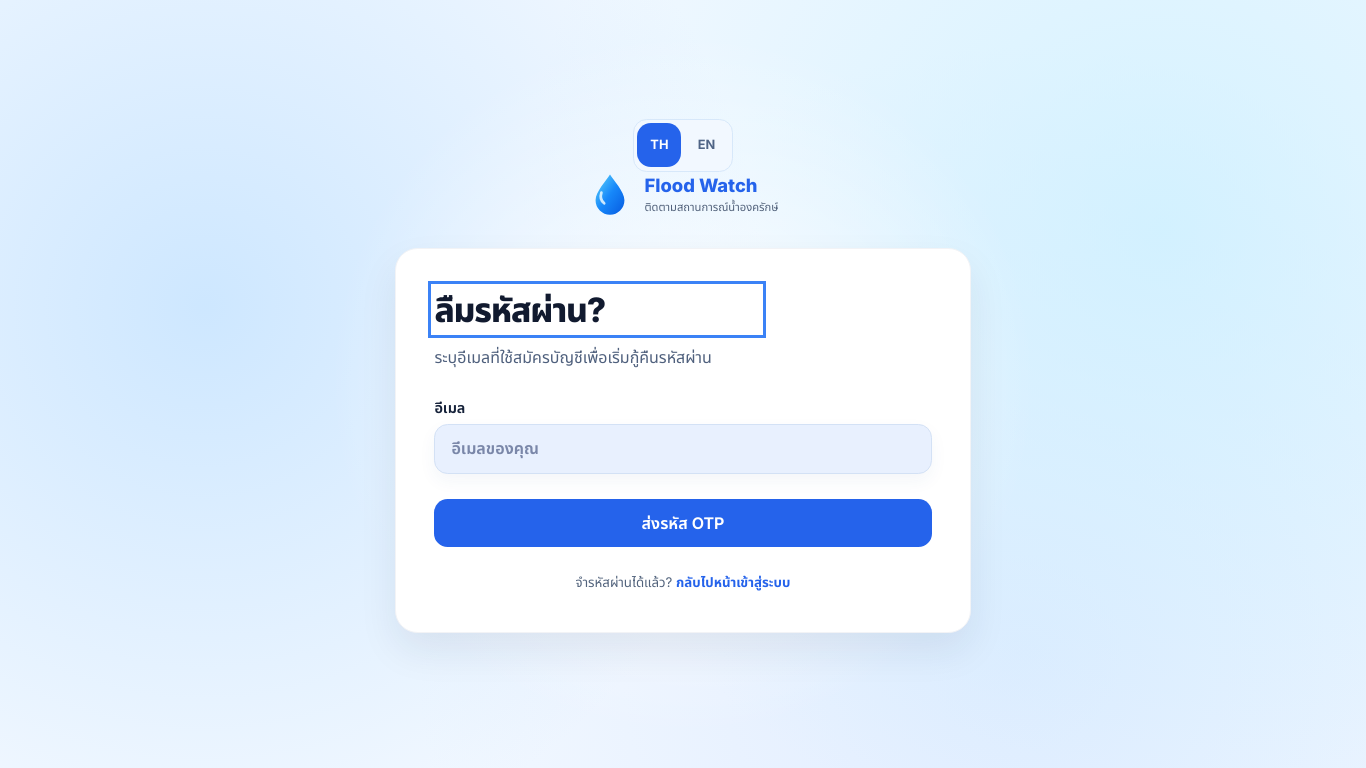
it: ForgotPasswordPage › replaces the challenge when a resend is allowed
Type "user@example.com" into the field labelled "อีเมล" at (683,449), box [434, 424, 932, 474]
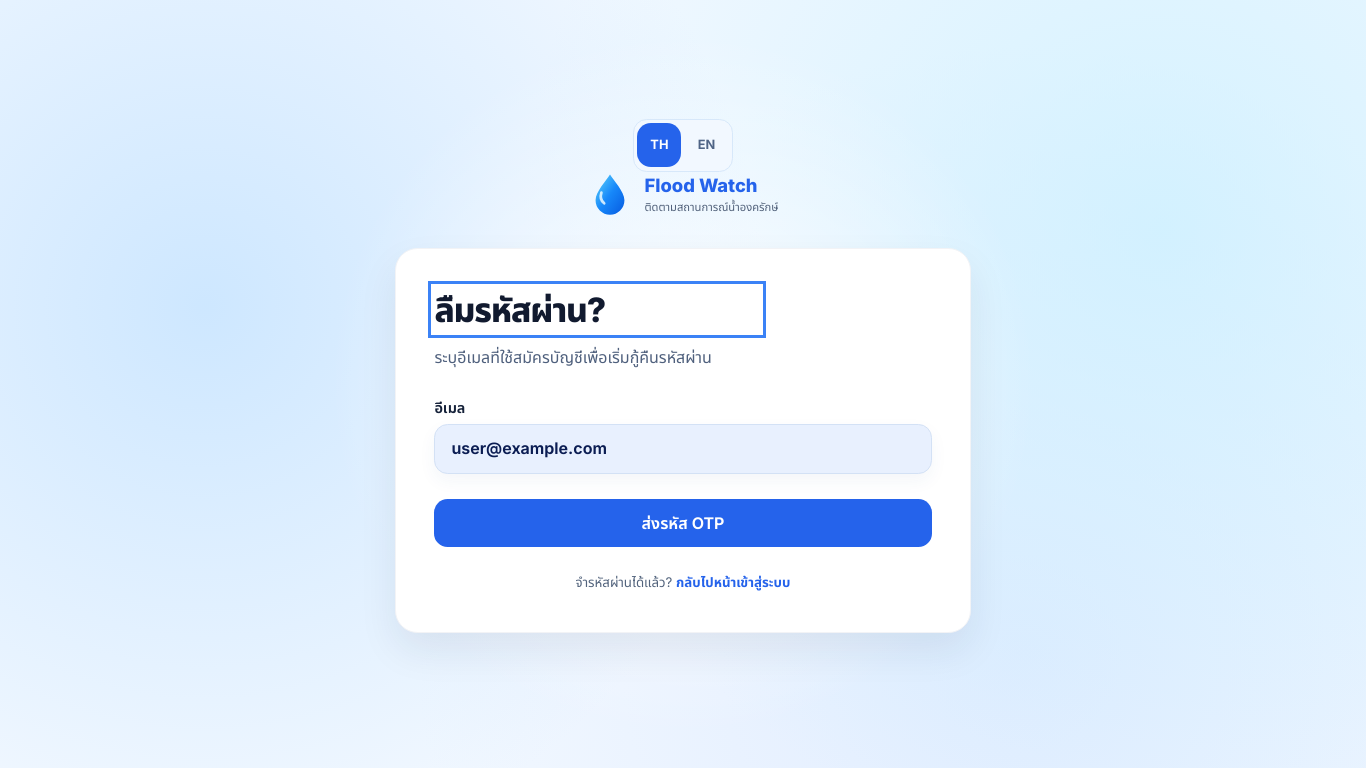
Click the button "ส่งรหัส OTP" at (683,523), box [434, 499, 932, 547]
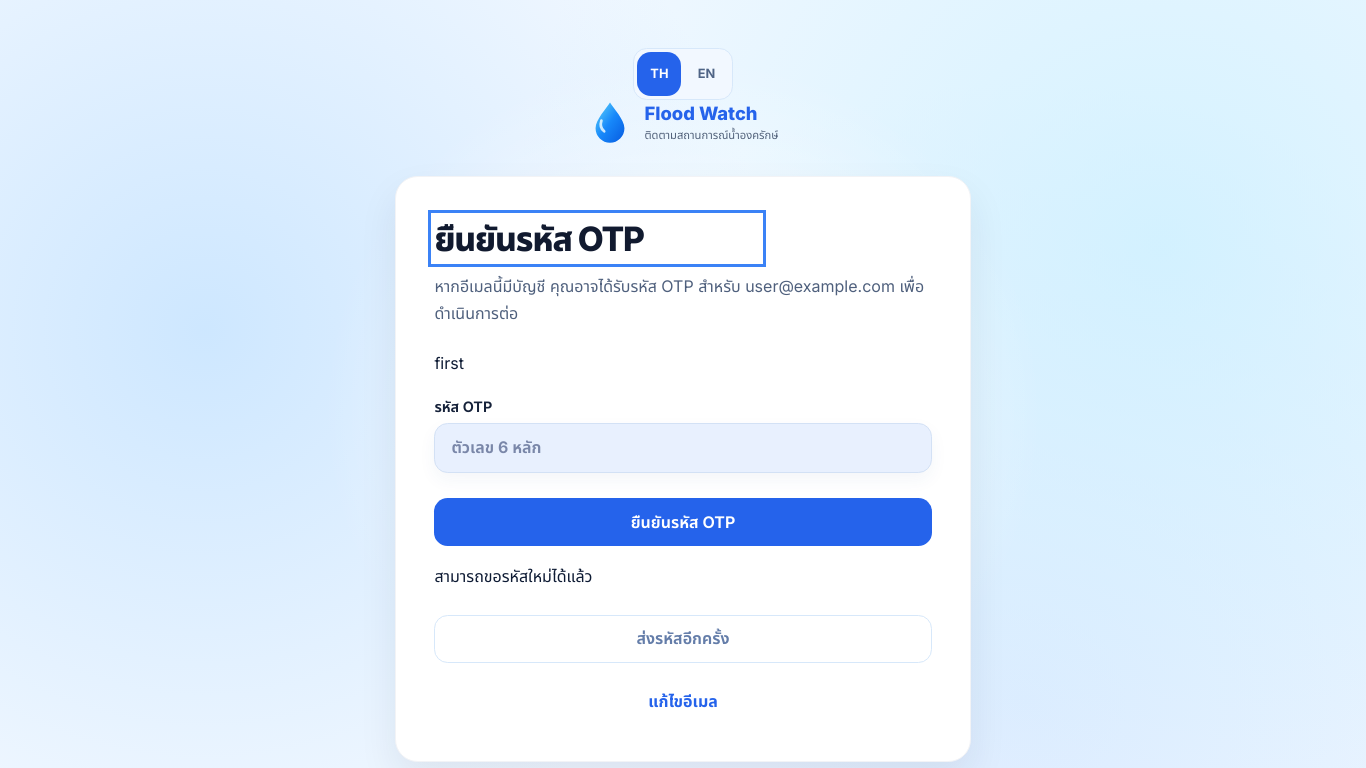
Now the heading "ยืนยันรหัส OTP" is shown, box [434, 218, 644, 259]
Click the button "ส่งรหัสอีกครั้ง" at (683,639), box [434, 615, 932, 663]
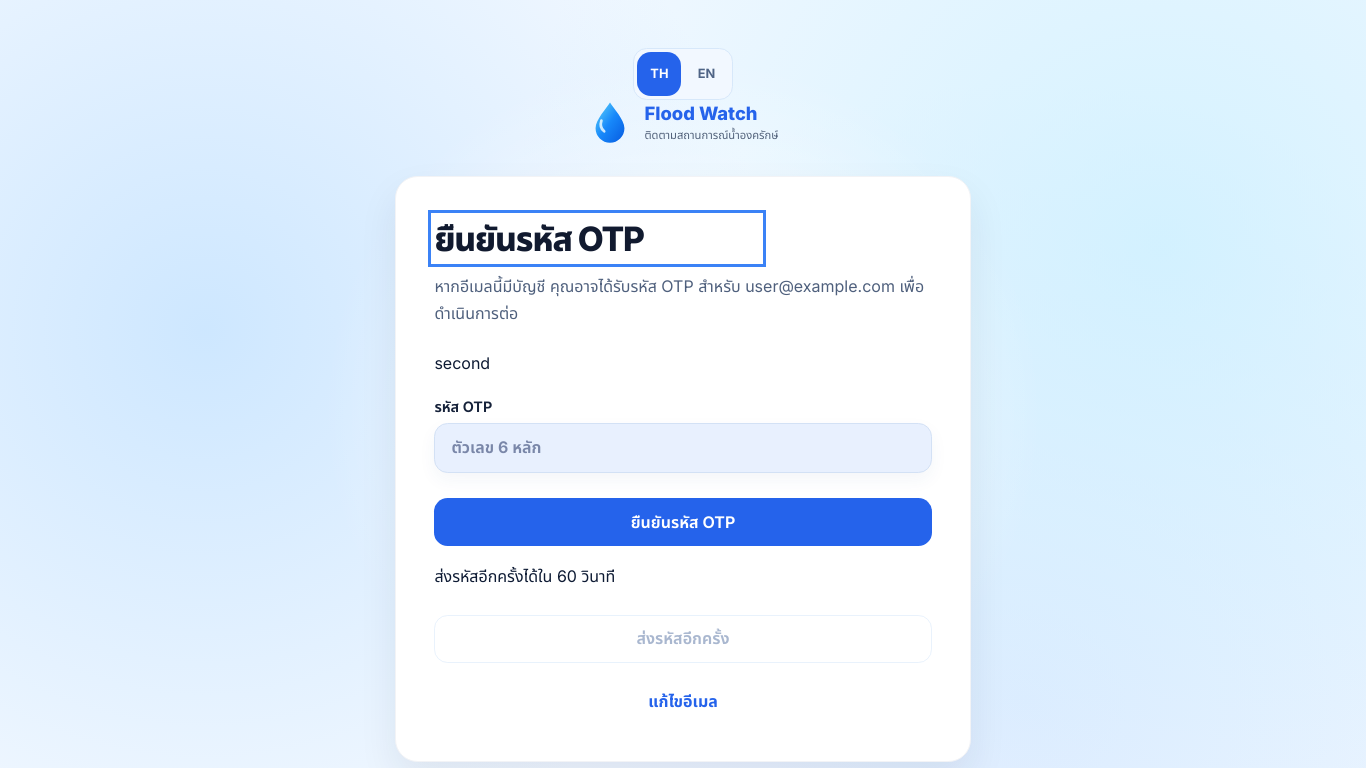
Now the message named "ข้อมูลการกู้คืน" reads "second", box [434, 354, 490, 374]
